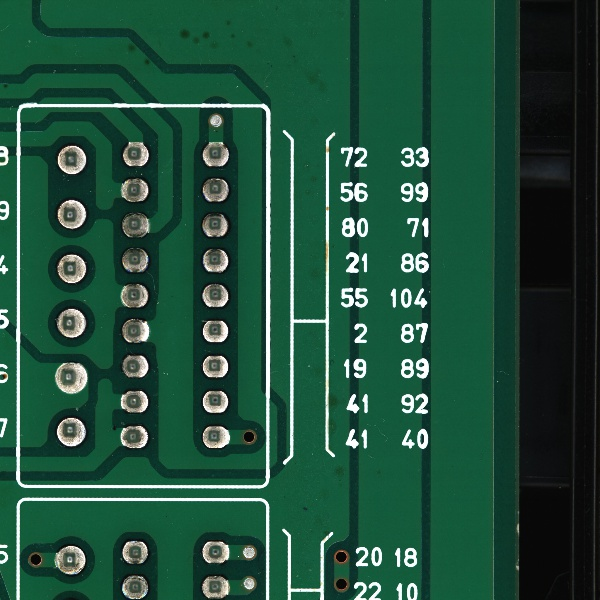Circle: (49, 359, 94, 399), (51, 539, 89, 584), (50, 413, 92, 450), (53, 304, 90, 343), (53, 141, 90, 178), (54, 196, 90, 234), (196, 137, 234, 171), (53, 250, 89, 285), (118, 209, 155, 242), (197, 208, 232, 242), (120, 348, 153, 382), (198, 386, 234, 417), (197, 174, 231, 206), (200, 423, 233, 455), (199, 537, 232, 569), (117, 316, 154, 344), (118, 135, 150, 167), (120, 244, 152, 276), (118, 281, 150, 313), (119, 536, 152, 567), (118, 422, 150, 453), (199, 244, 230, 276), (199, 351, 230, 382), (199, 280, 230, 310), (118, 572, 151, 599), (200, 316, 230, 345), (119, 176, 150, 204), (119, 387, 149, 415), (199, 573, 231, 599)
